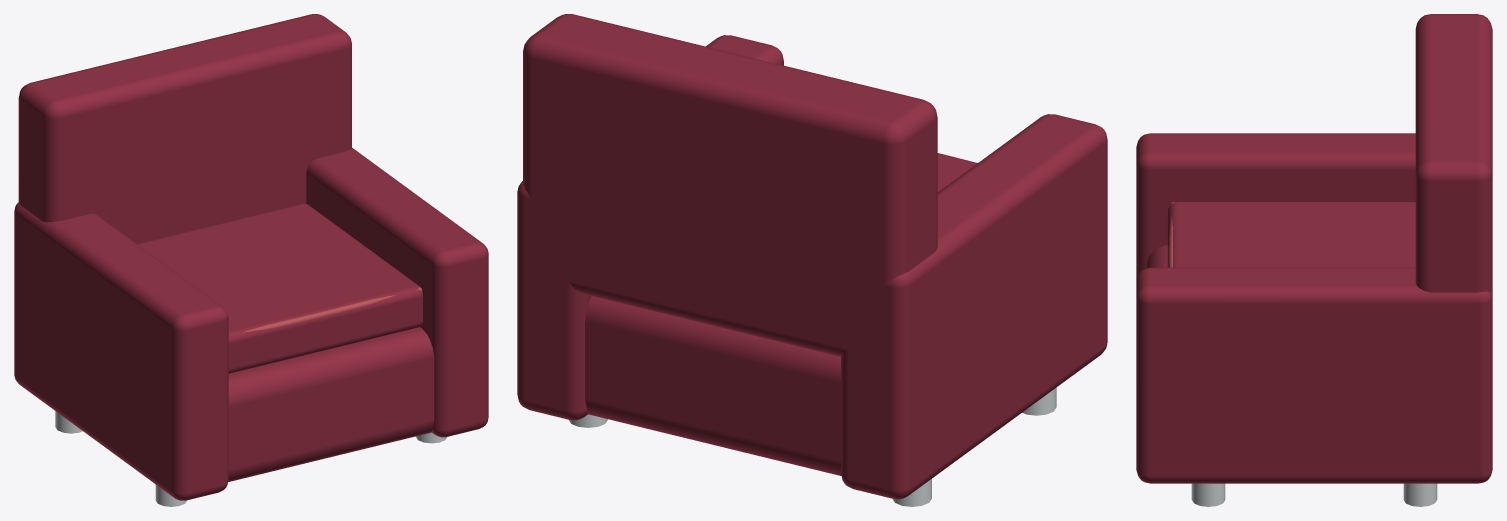
The model's file is barbershop-and-hair-salon-waiting-armchair-b073ef42__29645.glb.
3 views of the same model, side by side, from view 1: azimuth 30°, elevation 25°; view 2: azimuth 150°, elevation 25°; view 3: azimuth 270°, elevation 25° (orthographic). The views are drawn at different scales.
Parts seen in each view (by area): view 1: waiting-armchair; view 2: waiting-armchair; view 3: waiting-armchair.
Boxes of the visible parts, x1,y1,x2,y2 form: waiting-armchair: [14, 14, 488, 506]; waiting-armchair: [517, 14, 1107, 506]; waiting-armchair: [1136, 14, 1492, 506].
Bounding box in the file's own units: 0.8 × 0.79 × 0.74.
